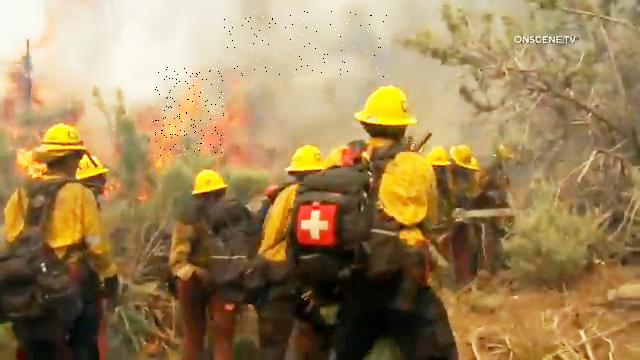fire: (152, 67, 224, 157)
smoke: (224, 11, 390, 77)
